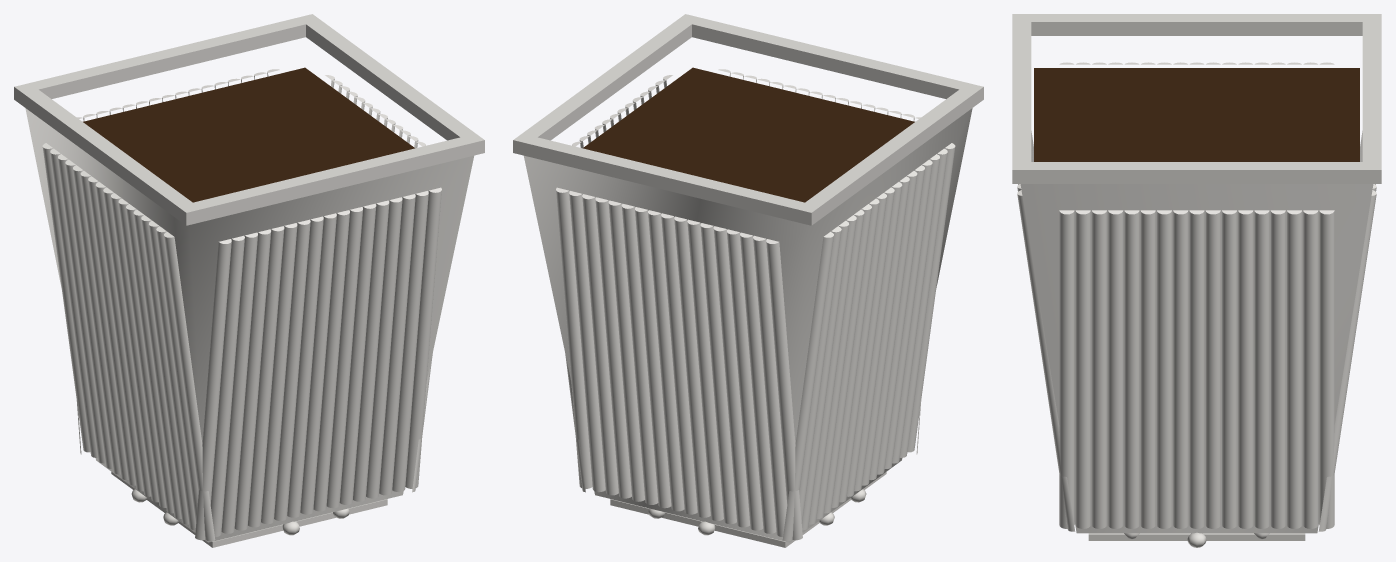
The picture shows the model from 3 angles, left to right: view 1: azimuth 30°, elevation 25°; view 2: azimuth 150°, elevation 25°; view 3: azimuth 270°, elevation 25°; orthographic projection. The views are drawn at different scales.
Parts seen in each view (by area): view 1: soil, shell, rim-top-f, rim-top-b, flute-0-14, flute-0-8, flute-0-9, flute-0-7, flute-0-13, flute-0-15, flute-0-2, flute-0-3 (+33 smaller); view 2: soil, shell, rim-top-b, rim-top-f, flute-1-2, flute-1-8, flute-1-7, flute-1-9, flute-1-1, flute-1-3, flute-1-10, flute-1-11 (+33 smaller); view 3: soil, shell, flute-2-7, flute-2-9, flute-2-1, flute-2-2, flute-2-3, flute-2-4, flute-2-5, flute-2-8, flute-2-11, flute-2-12 (+16 smaller).
Boxes of the visible parts, x1,y1,x2,y2 form: soil: (83,67,414,202); shell: (25,108,473,542); rim-top-f: (177,133,484,218); rim-top-b: (14,14,320,98); flute-0-14: (379,194,415,495); flute-0-8: (300,213,336,514); flute-0-9: (313,210,349,511); flute-0-7: (287,216,323,517); flute-0-13: (366,197,402,498); flute-0-15: (392,191,428,492); flute-0-2: (221,232,257,533); flute-0-3: (234,229,271,530); soil: (583,67,914,202); shell: (524,108,972,542); rim-top-b: (513,133,820,218); rim-top-f: (677,14,983,98); flute-1-2: (582,194,618,495); flute-1-8: (661,213,697,514); flute-1-7: (648,210,684,511); flute-1-9: (674,216,710,517); flute-1-1: (569,191,605,492); flute-1-3: (595,197,631,498); flute-1-10: (687,219,723,520); flute-1-11: (700,223,736,524); soil: (1034,68,1359,161); shell: (1020,184,1373,533); flute-2-7: (1173,210,1188,528); flute-2-9: (1205,210,1220,528); flute-2-1: (1075,210,1090,528); flute-2-2: (1091,210,1106,528); flute-2-3: (1108,210,1123,528); flute-2-4: (1124,210,1139,528); flute-2-5: (1140,210,1155,528); flute-2-8: (1189,210,1204,528); flute-2-11: (1238,210,1253,528); flute-2-12: (1254,210,1269,528).
Bounding box in the file's own units: 0.58 × 0.7 × 0.58.
